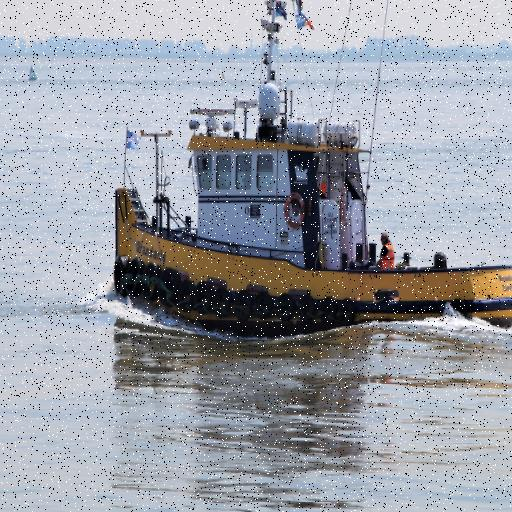tugboat: (109, 1, 512, 355)
